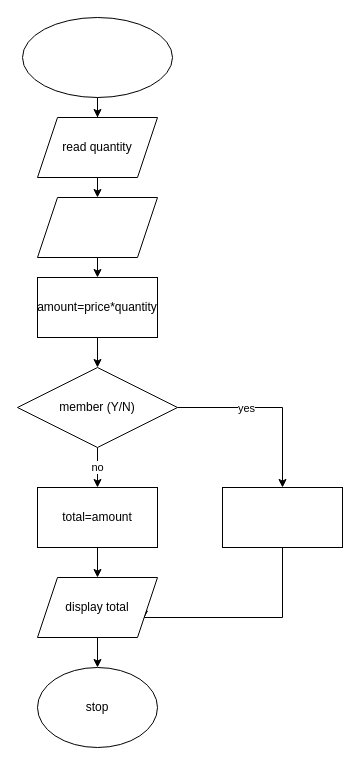
This 360x765 diagram has some shape labels left out. Here are the shapes that lost their labels. From the top down, the centre of each, then its label:
[97,57]: start
[97,227]: read member
[282,517]: total=amount*90%
